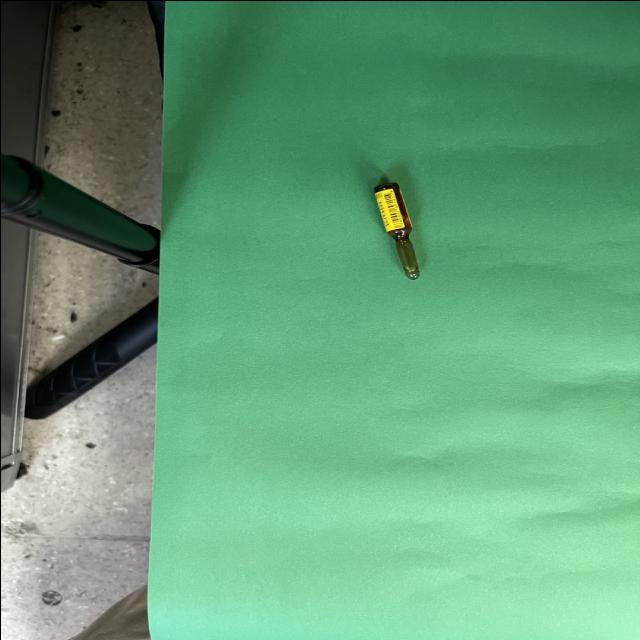Ampoules: (373, 181, 419, 279)
